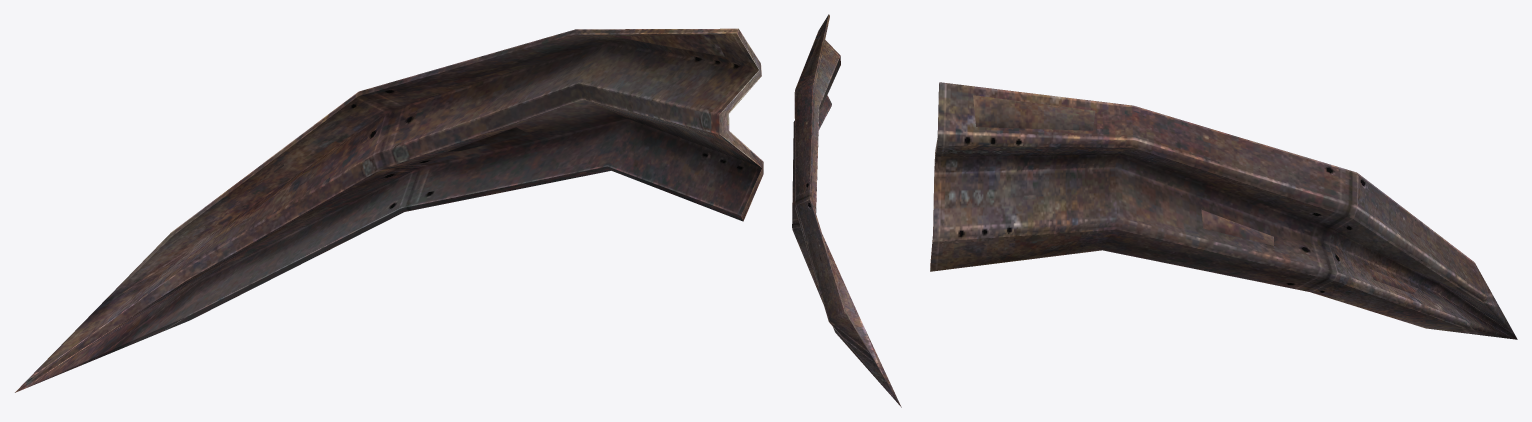
Rendered from GuardRailLeftEnd.FBX.
3 views of the same model, side by side, from view 1: azimuth 30°, elevation 25°; view 2: azimuth 150°, elevation 25°; view 3: azimuth 270°, elevation 25° (orthographic). The views are drawn at different scales.
Parts seen in each view (by area): view 1: GR_EndLeft:0; view 2: GR_EndLeft:0; view 3: GR_EndLeft:0.
Boxes of the visible parts, x1=… form: GR_EndLeft:0: x1=15, y1=28, x2=763, y2=392; GR_EndLeft:0: x1=792, y1=14, x2=901, y2=407; GR_EndLeft:0: x1=930, y1=82, x2=1517, y2=339.
Size of the model in its own units: 1.12 by 1.1 by 1.24.
